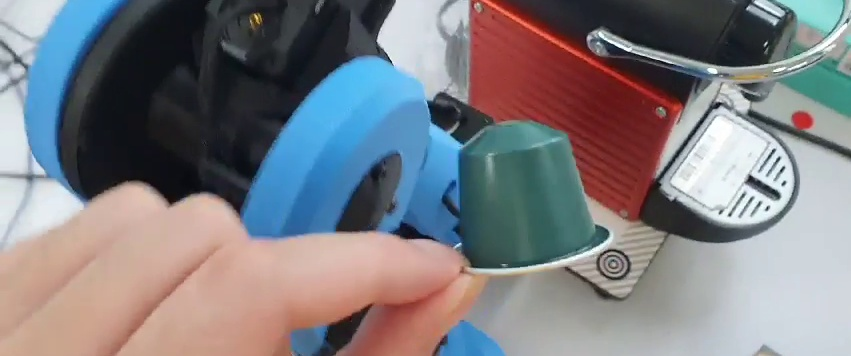capsule_13: (453, 119, 616, 277)
